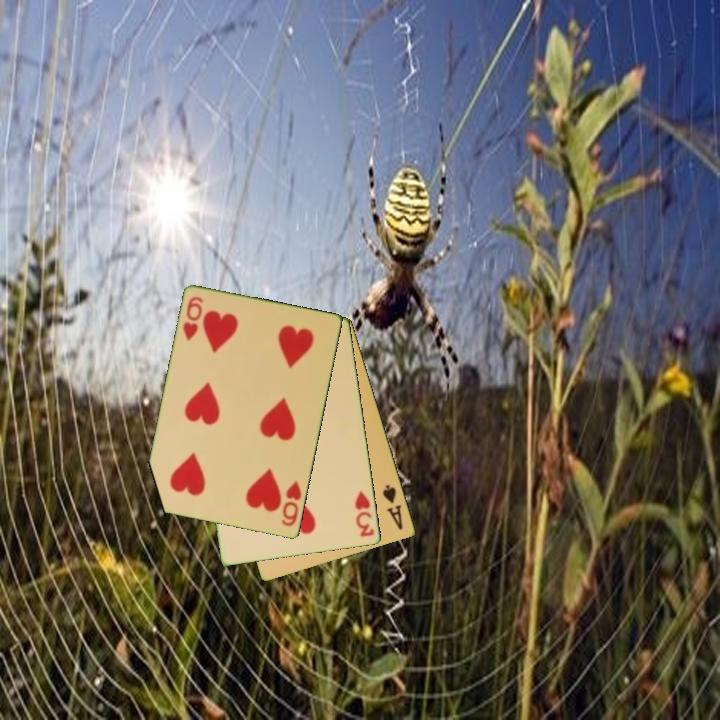3h: (352, 488, 377, 540)
6h: (278, 477, 304, 529), (180, 293, 206, 344)
As: (379, 481, 406, 533)
